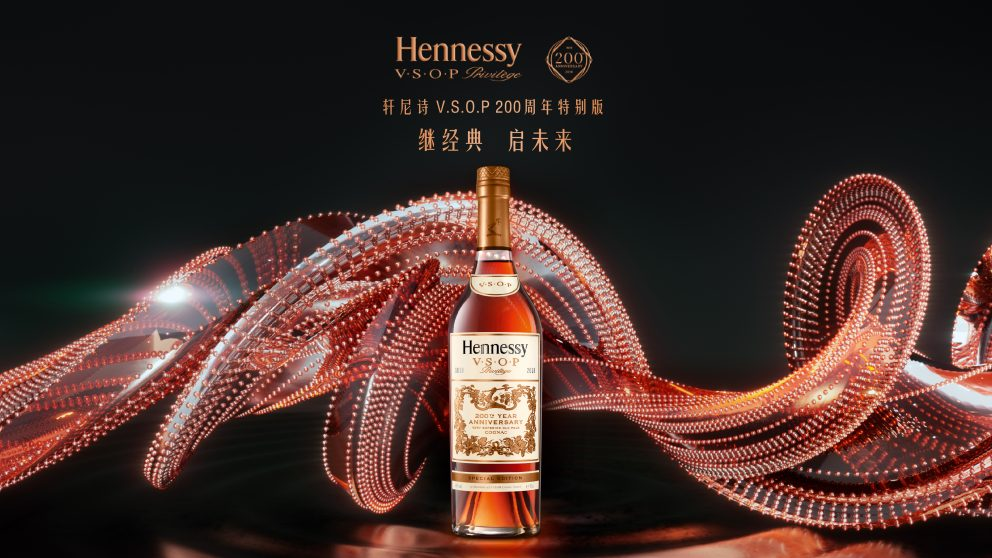Hennessy: (432, 161, 552, 550)
